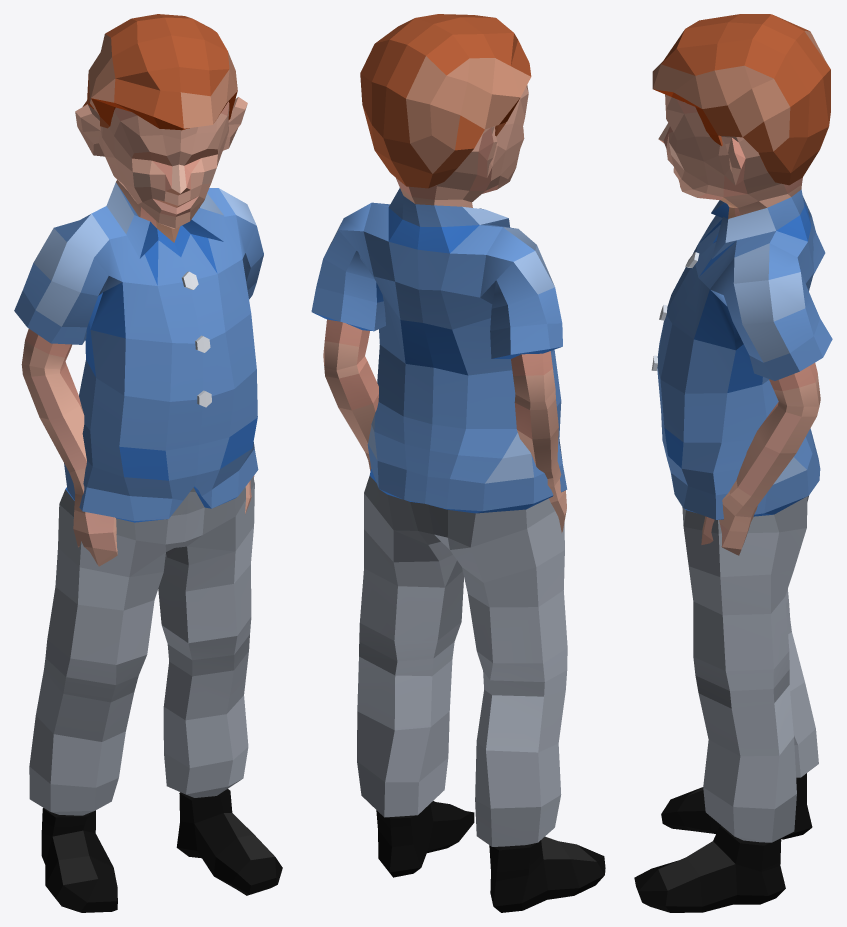
File: boy.glb
The picture shows the model from 3 angles, left to right: view 1: azimuth 30°, elevation 25°; view 2: azimuth 150°, elevation 25°; view 3: azimuth 270°, elevation 25°; orthographic projection.
Parts seen in each view (by area): view 1: boy; view 2: boy; view 3: boy.
Part boxes in pixels (x1,y1,x2,y2): boy: [14, 14, 282, 912]; boy: [311, 14, 605, 912]; boy: [634, 14, 832, 912].
Bounding box in the file's own units: 0.3535 × 1.19 × 0.2492.
1 material, 1 textured.
